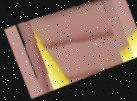scratch: (12, 0, 135, 97)
